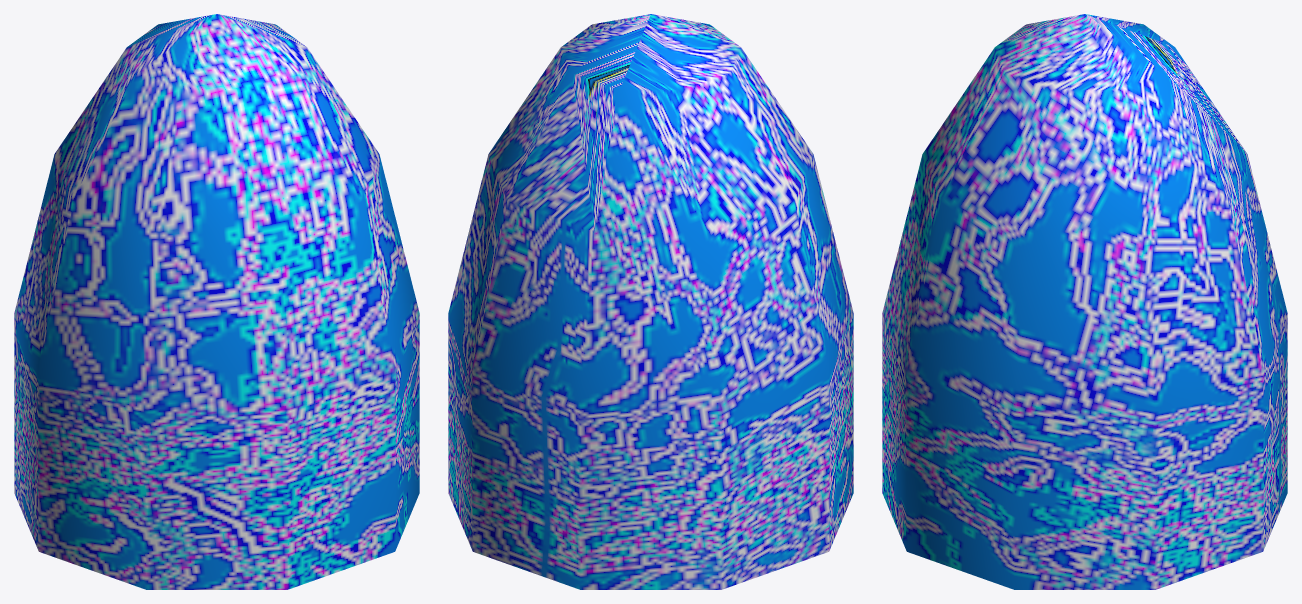
File: teslaoverlaymesh.fbx
3 renders of one model, left to right at view 1: azimuth 30°, elevation 25°; view 2: azimuth 150°, elevation 25°; view 3: azimuth 270°, elevation 25°, orthographic.
Parts seen in each view (by area): view 1: Sphere; view 2: Sphere; view 3: Sphere.
Part boxes in pixels (bbox=[...]): Sphere: bbox=[14, 14, 419, 589]; Sphere: bbox=[448, 14, 853, 589]; Sphere: bbox=[882, 14, 1287, 589].
Bounding box in the file's own units: 1.89 × 2.58 × 1.92.
1 material, 1 textured.
